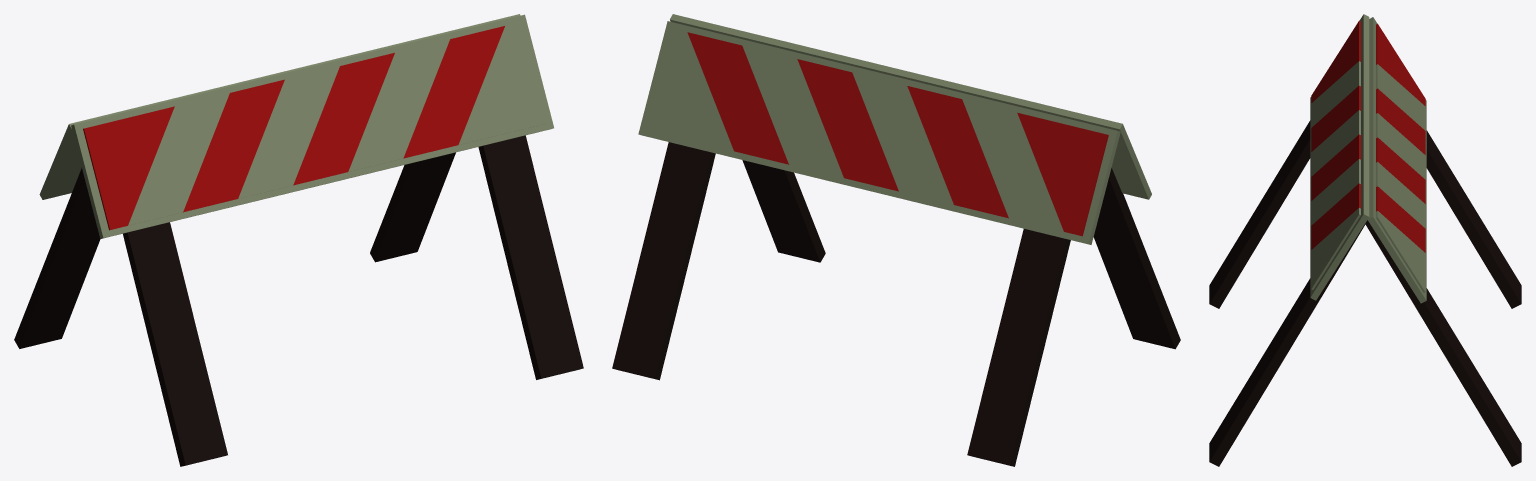
Rendered from Road_Block.fbx.
3 views of the same model, side by side, from view 1: azimuth 30°, elevation 25°; view 2: azimuth 150°, elevation 25°; view 3: azimuth 270°, elevation 25° (orthographic). The views are drawn at different scales.
Visible parts, largest first — view 1: Box039; view 2: Box039; view 3: Box039.
Boxes of the visible parts, bbox=[...] form: Box039: bbox=[14, 14, 583, 466]; Box039: bbox=[612, 14, 1180, 466]; Box039: bbox=[1209, 14, 1521, 466].
Bounding box in the file's own units: 160 × 98.41 × 105.
